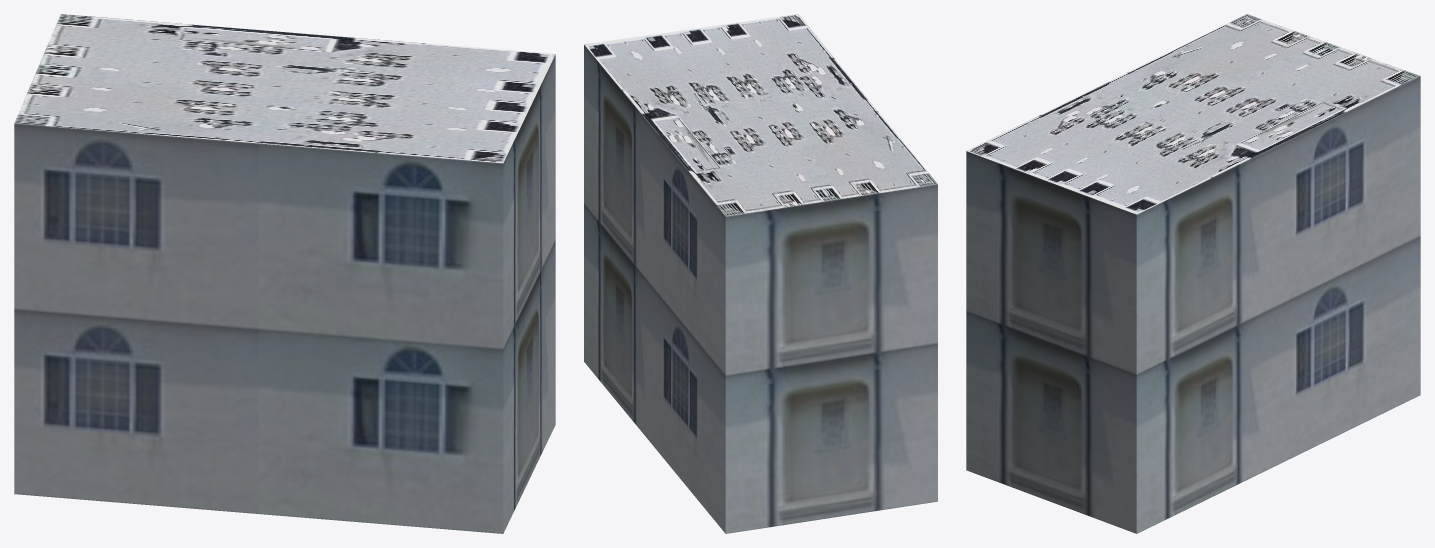
The model's file is ResTex__1776.fbx.
The picture shows the model from 3 angles, left to right: view 1: azimuth 30°, elevation 25°; view 2: azimuth 150°, elevation 25°; view 3: azimuth 270°, elevation 25°; orthographic projection. The views are drawn at different scales.
Visible parts, largest first — view 1: CityEngineMaterial_17_m, CityEngineMaterial_m; view 2: CityEngineMaterial_17_m, CityEngineMaterial_m; view 3: CityEngineMaterial_17_m, CityEngineMaterial_m.
Boxes of the visible parts, <box> form: CityEngineMaterial_17_m: <box>14,55,555,533</box>; CityEngineMaterial_m: <box>14,14,555,163</box>; CityEngineMaterial_17_m: <box>584,45,937,533</box>; CityEngineMaterial_m: <box>584,14,937,216</box>; CityEngineMaterial_17_m: <box>966,76,1420,533</box>; CityEngineMaterial_m: <box>967,14,1420,214</box>.
Size of the model in its own units: 8.09 by 6 by 7.74.
2 materials, 2 textured.
